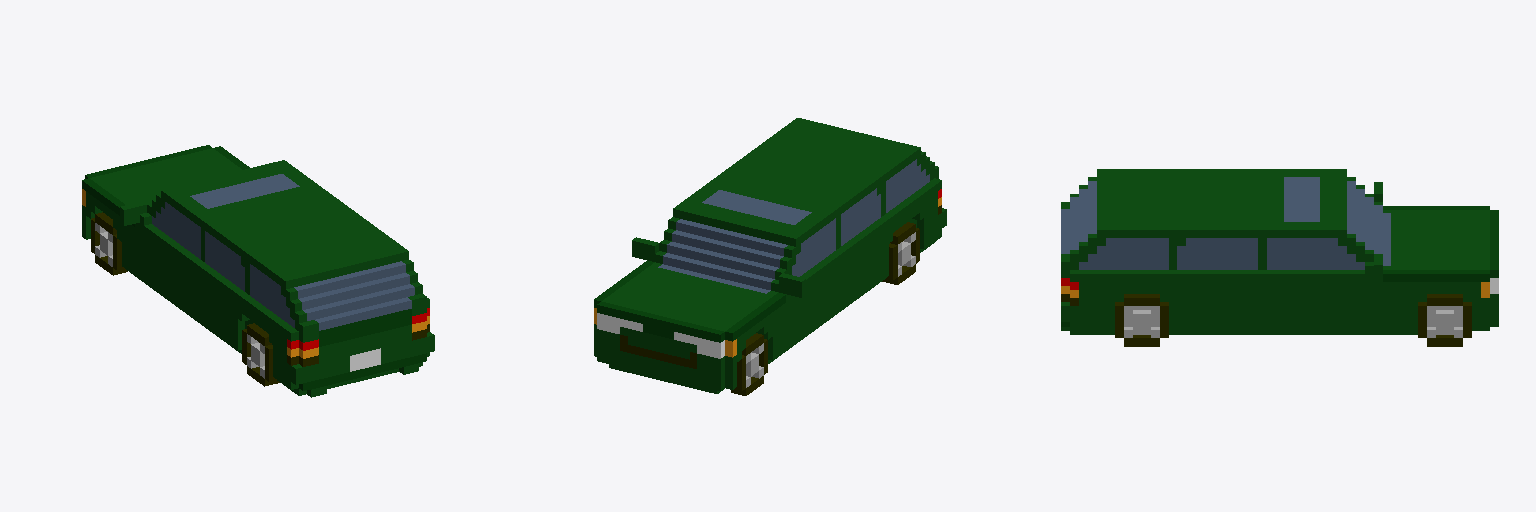
3 views of the same model, side by side, from view 1: azimuth 30°, elevation 25°; view 2: azimuth 150°, elevation 25°; view 3: azimuth 270°, elevation 25° (orthographic).
Parts seen in each view (by area): view 1: object 1; view 2: object 1; view 3: object 1.
Boxes of the visible parts, <box> form: object 1: <box>82,145,434,397</box>; object 1: <box>594,118,946,395</box>; object 1: <box>1061,169,1498,346</box>.
Bounding box in the file's own units: 2.2 × 1.4 × 4.9.
1 materials, 1 textured.